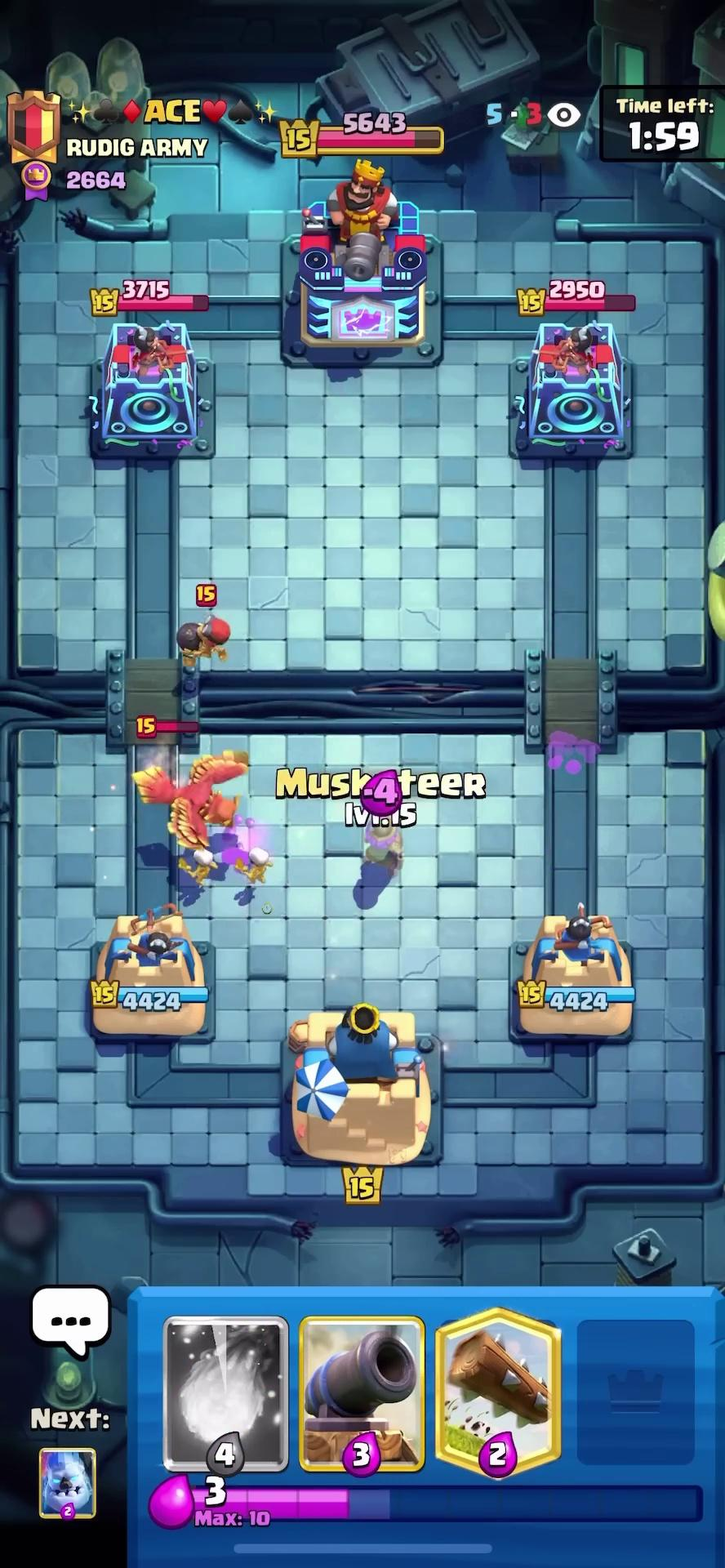skeletons: (176, 841, 284, 884)
